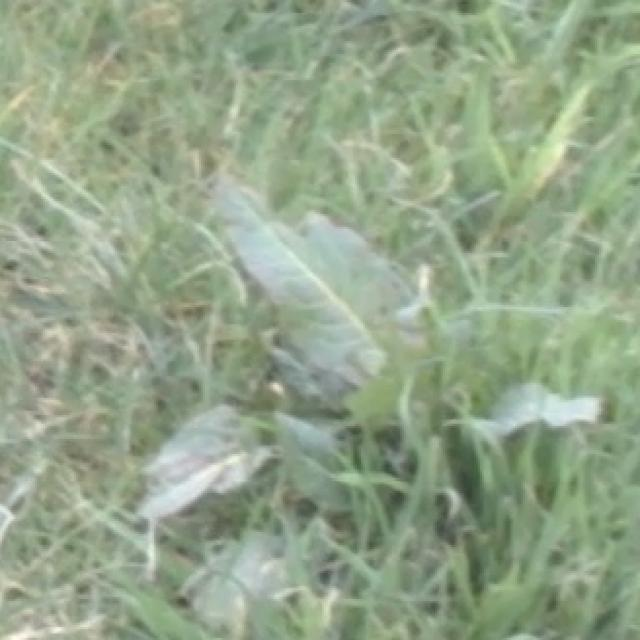organic waste: (115, 165, 579, 590)
